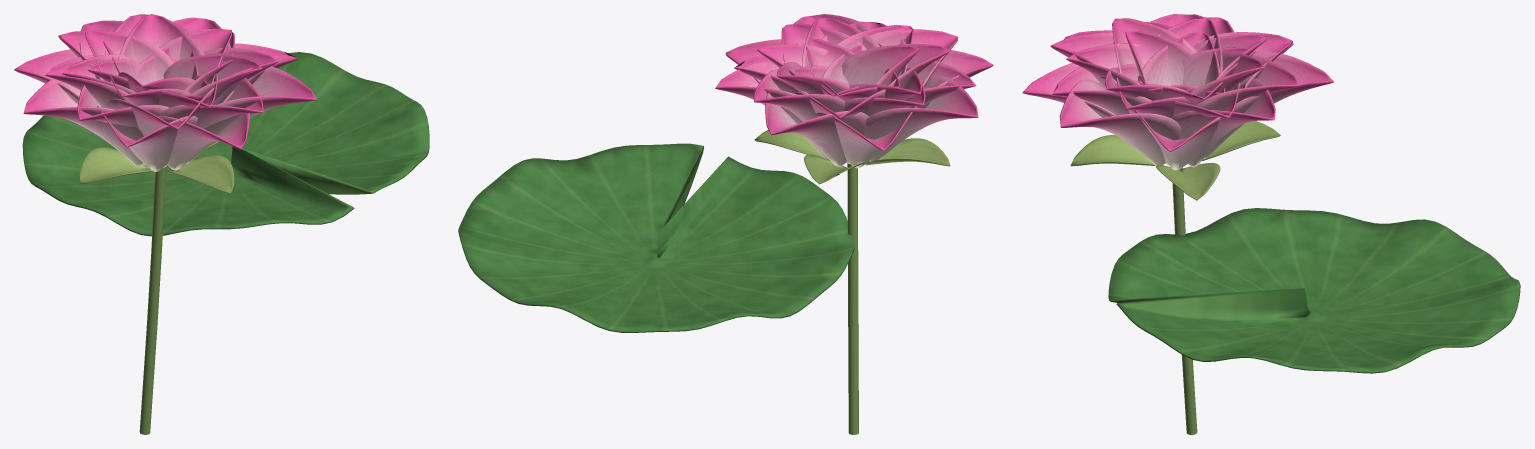
The model's file is lotus.glb.
3 views of the same model, side by side, from view 1: azimuth 30°, elevation 25°; view 2: azimuth 150°, elevation 25°; view 3: azimuth 270°, elevation 25° (orthographic). The views are drawn at different scales.
Visible parts, largest first — view 1: lotus_baked; view 2: lotus_baked; view 3: lotus_baked.
Boxes of the visible parts, left/top/right/bottom form: lotus_baked: left=14, top=14, right=429, bottom=434; lotus_baked: left=458, top=14, right=993, bottom=434; lotus_baked: left=1022, top=14, right=1520, bottom=434.
Size of the model in its own units: 1.06 by 0.8754 by 1.02.
1 material, 1 textured.
